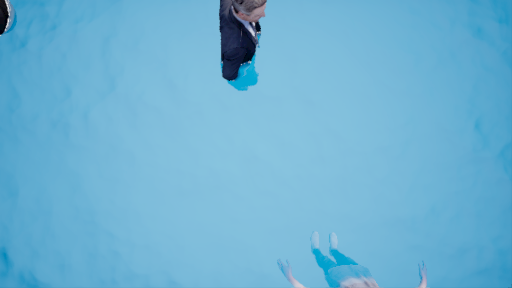person: (212, 1, 275, 97)
